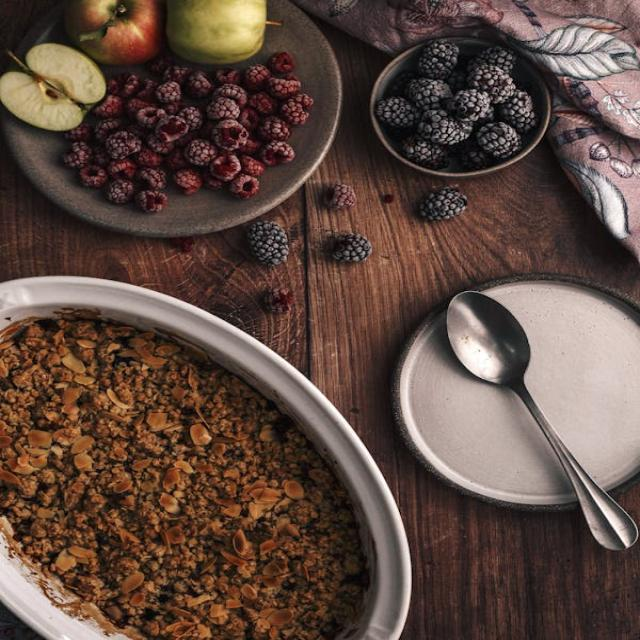spoon: (449, 293, 640, 552)
